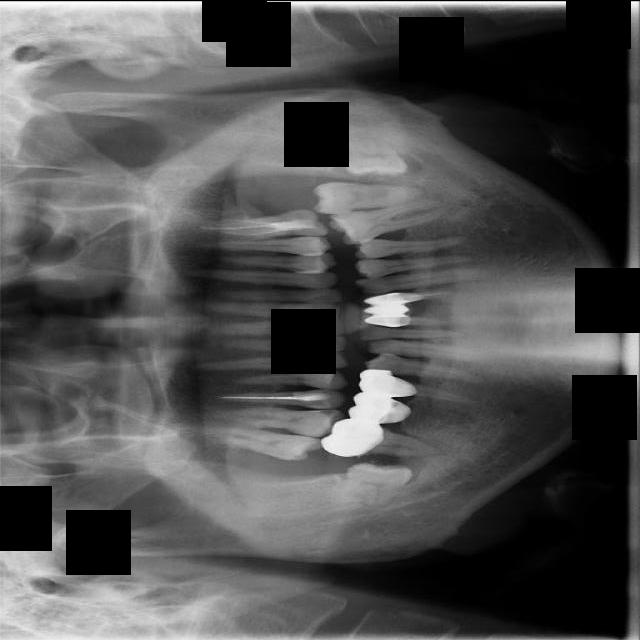52: (317, 357, 423, 477), (363, 291, 412, 327)
73: (201, 215, 295, 238), (211, 389, 308, 404), (403, 288, 456, 301), (612, 15, 622, 27)
Biomet 3i Implant: (345, 133, 411, 179)
Blue Sky Bio Implant: (313, 181, 420, 213)
Caries: (224, 423, 322, 463)
Implant: (320, 414, 445, 470)
Keystone Dental Implant: (326, 456, 416, 511)
